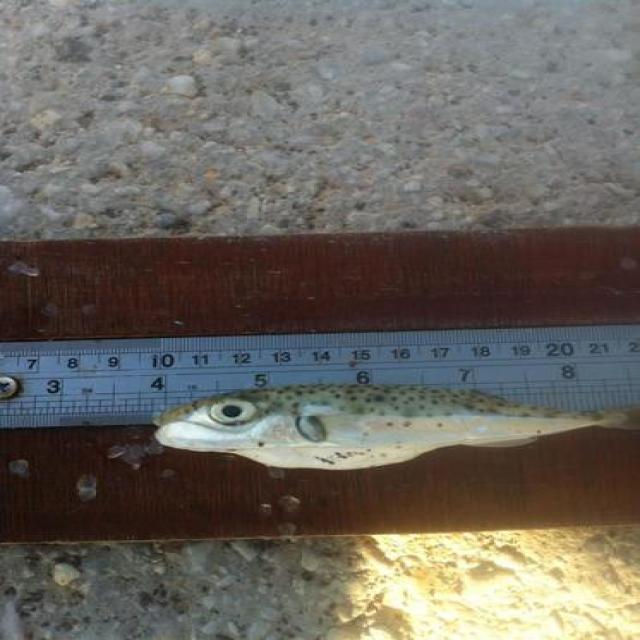Balik: (155, 384, 639, 469)
